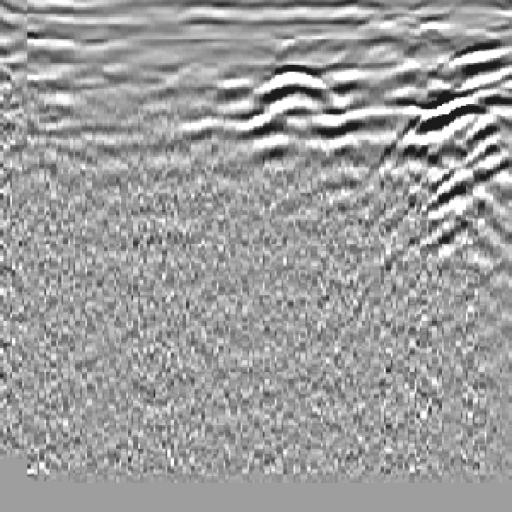metalic: (235, 47, 366, 120)
